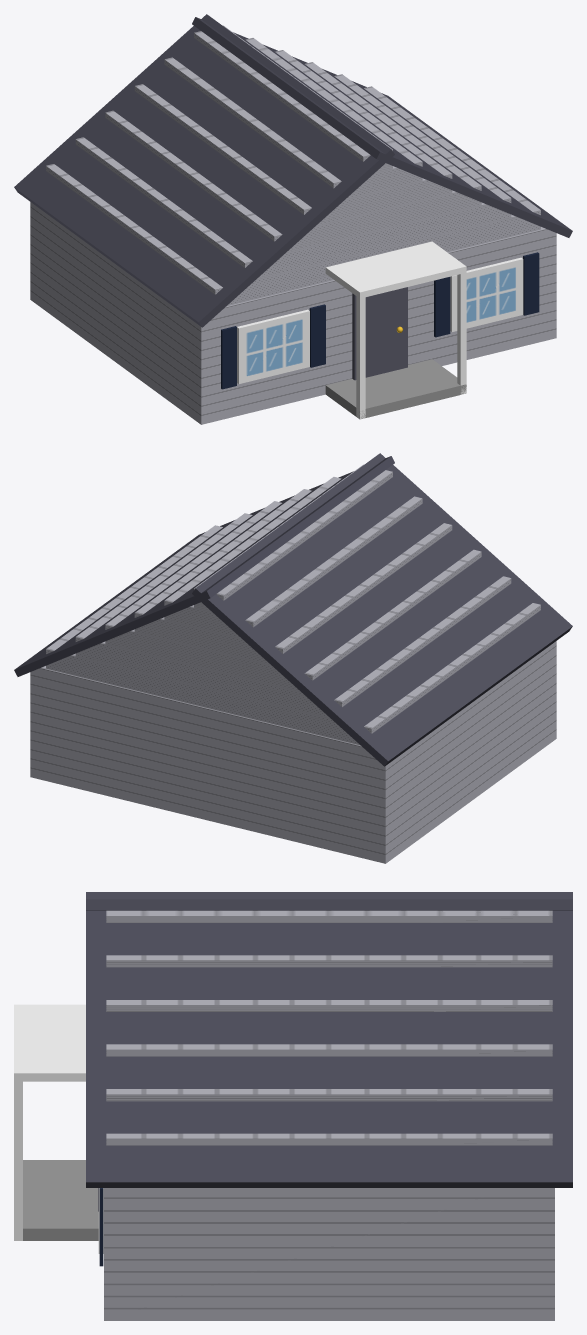
File: house_grey_small.glb
3 renders of one model, top to bottom at view 1: azimuth 30°, elevation 25°; view 2: azimuth 150°, elevation 25°; view 3: azimuth 270°, elevation 25°, orthographic. The views are drawn at different scales.
Visible parts, largest first — view 1: house_grey_small; view 2: house_grey_small; view 3: house_grey_small.
Part boxes in pixels (bbox=[...]): house_grey_small: bbox=[14, 14, 572, 424]; house_grey_small: bbox=[14, 453, 572, 863]; house_grey_small: bbox=[14, 892, 572, 1320].
Bounding box in the file's own units: 6.32 × 3.8 × 6.2.
Materials: 8 (2 with a texture image).
